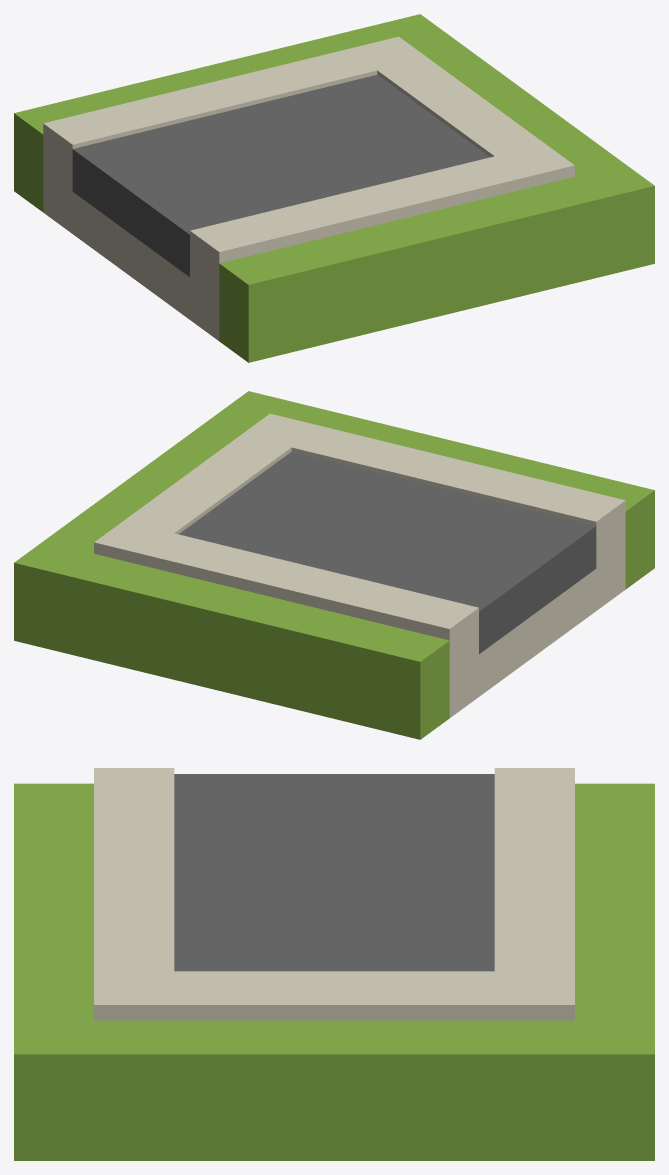
Rendered from tile046.fbx.
3 renders of one model, top to bottom at view 1: azimuth 30°, elevation 25°; view 2: azimuth 150°, elevation 25°; view 3: azimuth 270°, elevation 25°, orthographic. The views are drawn at different scales.
Visible parts, largest first — view 1: tile046; view 2: tile046; view 3: tile046.
Boxes of the visible parts, x1,y1,x2,y2 form: tile046: (14, 14, 654, 362); tile046: (14, 391, 654, 739); tile046: (14, 768, 654, 1160).
Size of the model in its own units: 10 by 2.1 by 10.
